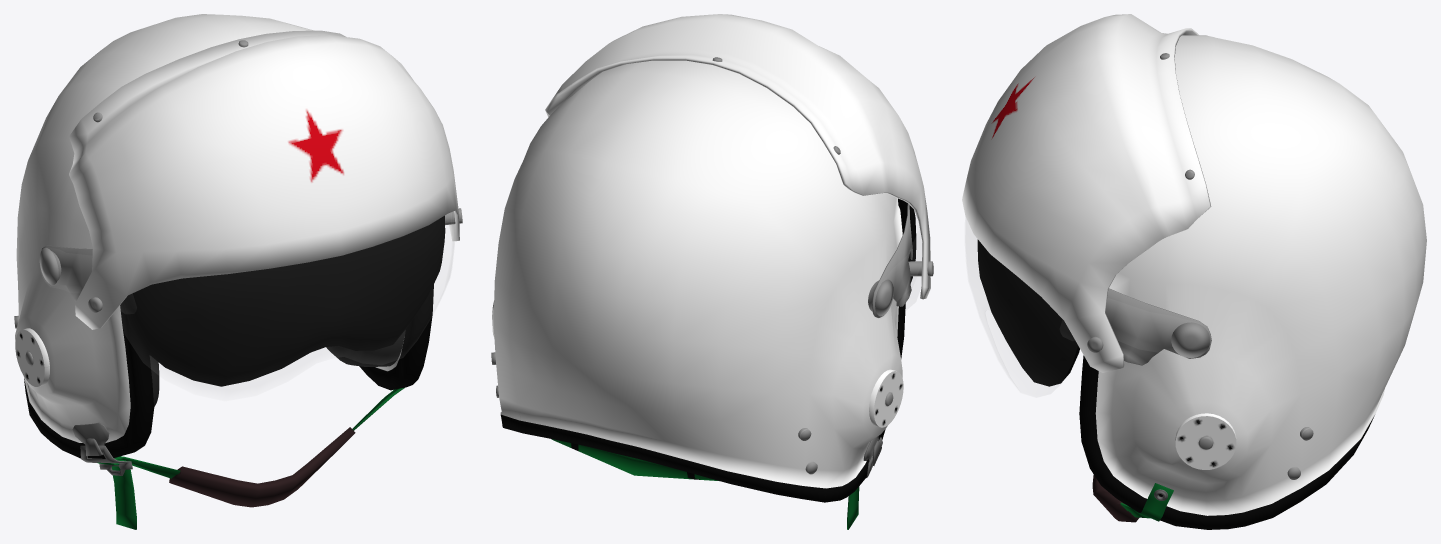
Rendered from Helmet_w_textures.fbx.
3 renders of one model, left to right at view 1: azimuth 30°, elevation 25°; view 2: azimuth 150°, elevation 25°; view 3: azimuth 270°, elevation 25°, orthographic. The views are drawn at different scales.
Visible parts, largest first — view 1: Helmet, Light filter; view 2: Helmet, Light filter; view 3: Helmet, Light filter, Glass.
Boxes of the visible parts, bbox=[...] form: Helmet: bbox=[14, 14, 462, 529]; Light filter: bbox=[41, 215, 445, 386]; Helmet: bbox=[491, 14, 933, 529]; Light filter: bbox=[872, 198, 916, 317]; Helmet: bbox=[962, 14, 1426, 529]; Light filter: bbox=[977, 239, 1211, 386]; Glass: bbox=[965, 219, 1074, 386].
Size of the model in its own units: 1293 by 1470 by 1296.
5 materials, 4 textured.
